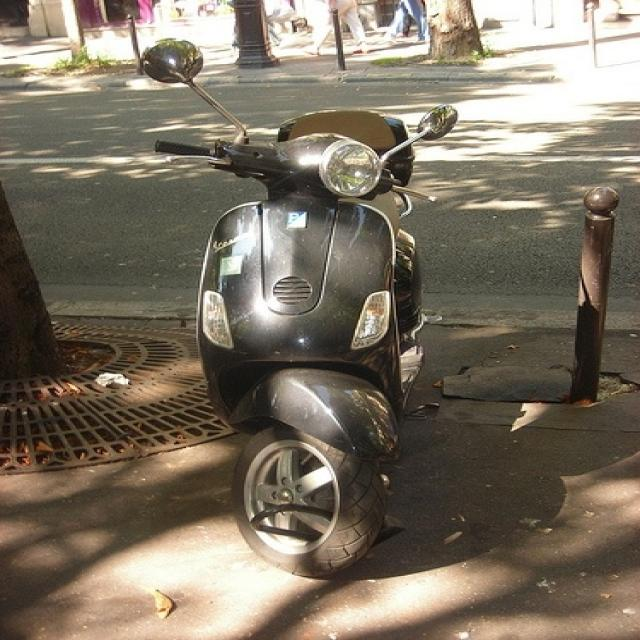scooter: (144, 40, 457, 577)
